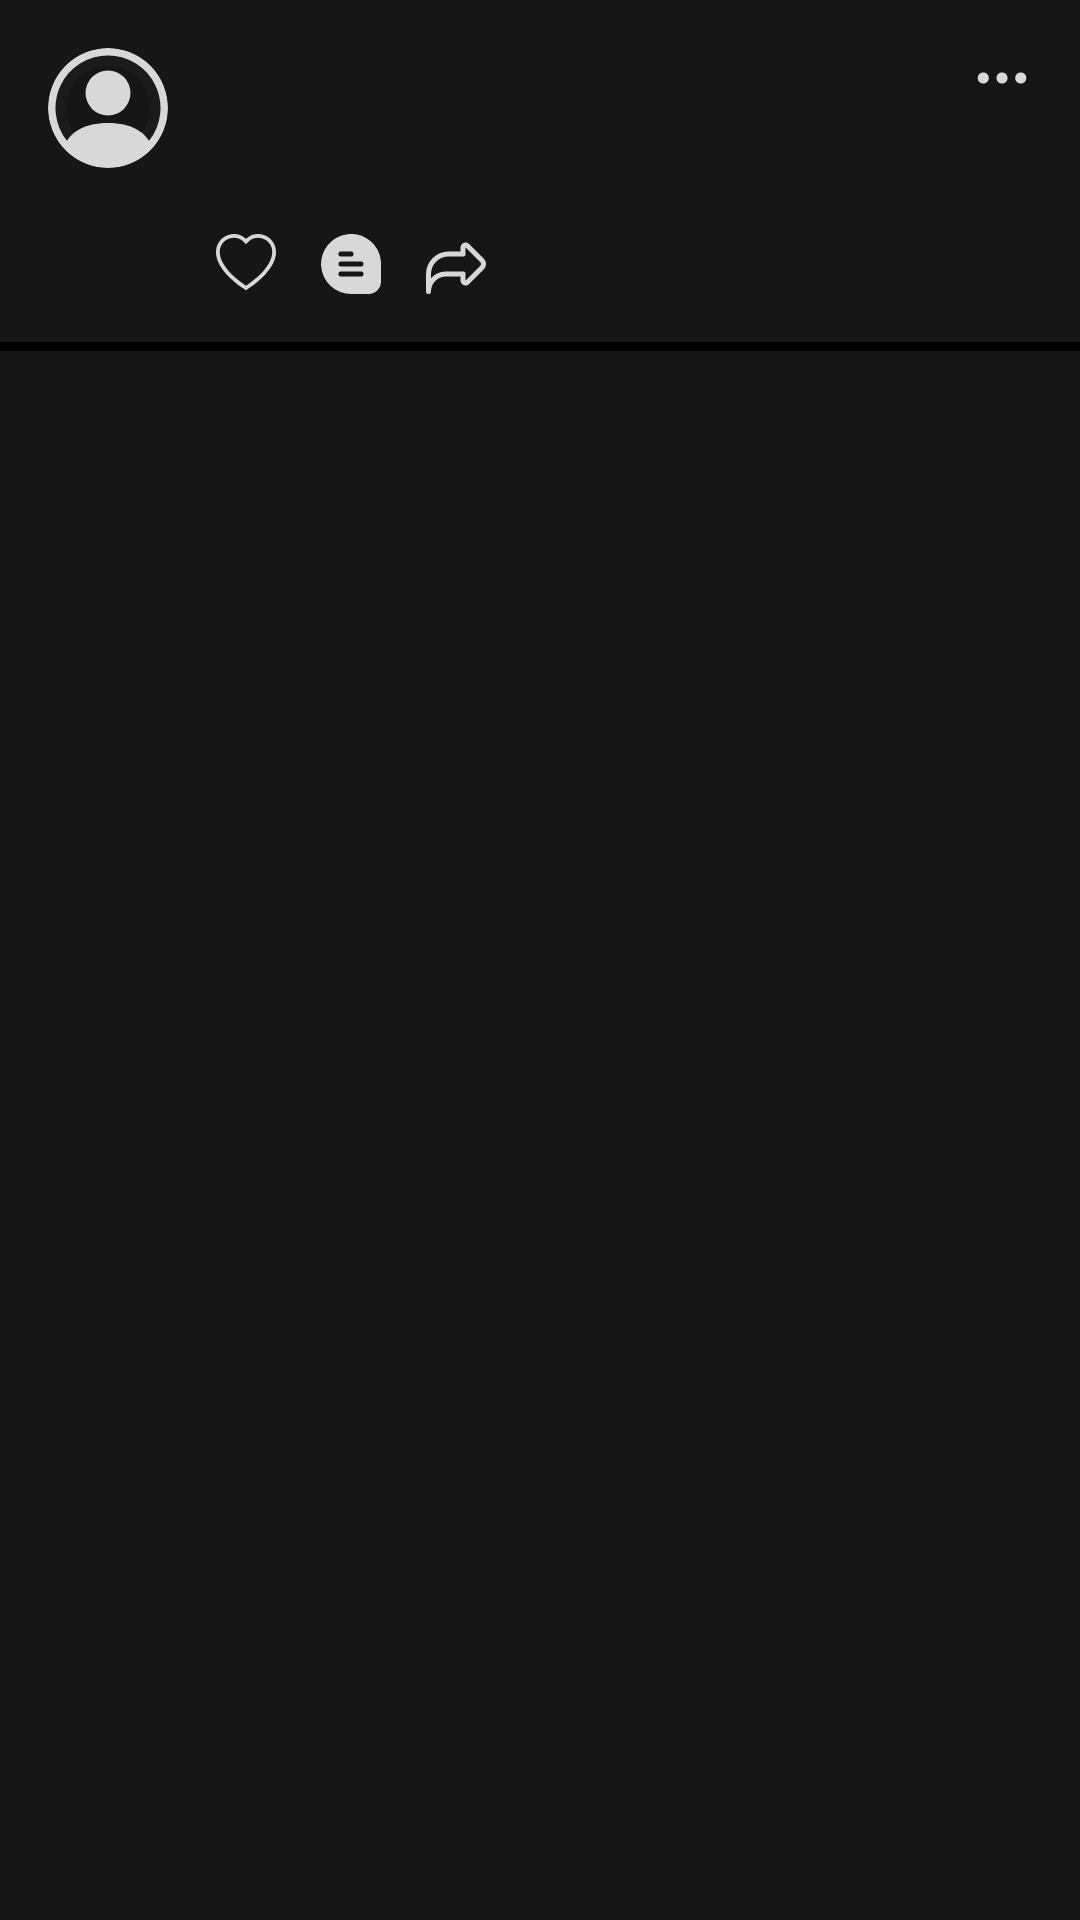

Locate icon controls on the screen. Image size 1080px x 1920px, boxes as bbox(x1, y1, x2, y2).
comment: bbox(321, 234, 381, 294)
Like: bbox(216, 234, 276, 290)
profile: bbox(48, 48, 168, 168)
Share: bbox(426, 242, 486, 294)
three dots: bbox(977, 72, 1027, 84)
